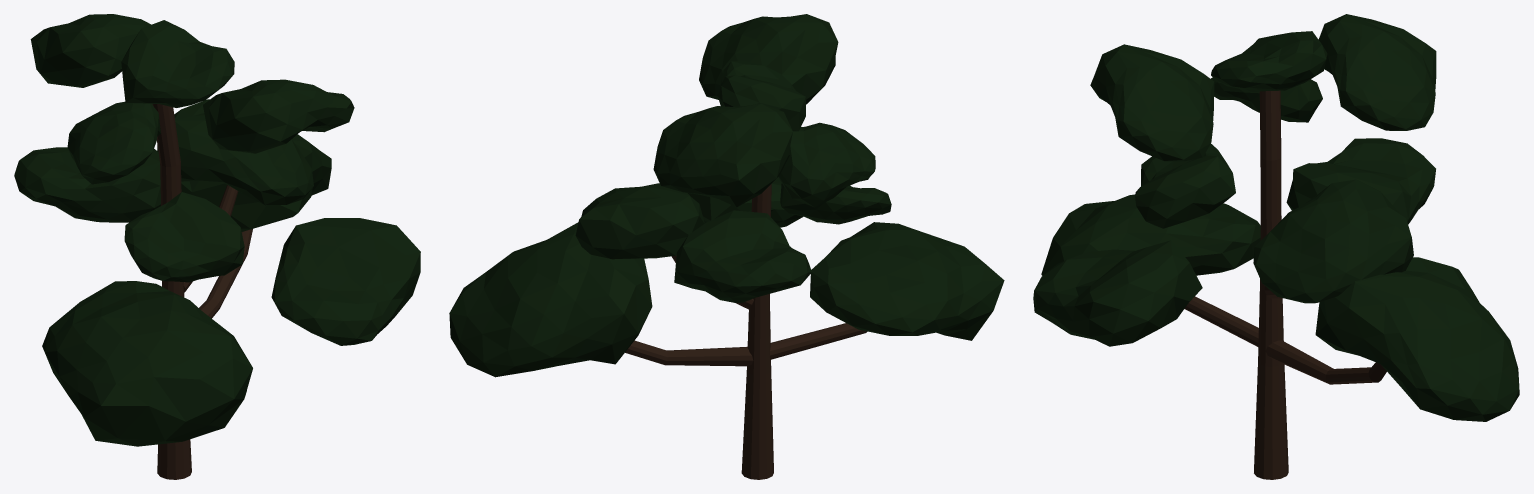
The model's file is SM_light_tree_10.fbx.
The picture shows the model from 3 angles, left to right: view 1: azimuth 30°, elevation 25°; view 2: azimuth 150°, elevation 25°; view 3: azimuth 270°, elevation 25°; orthographic projection. The views are drawn at different scales.
Parts seen in each view (by area): view 1: light_tree_10; view 2: light_tree_10; view 3: light_tree_10.
Boxes of the visible parts, x1,y1,x2,y2 form: light_tree_10: [14, 14, 420, 479]; light_tree_10: [449, 14, 1004, 479]; light_tree_10: [1033, 14, 1519, 479].
Size of the model in its own units: 65.13 by 66.38 by 66.82.
